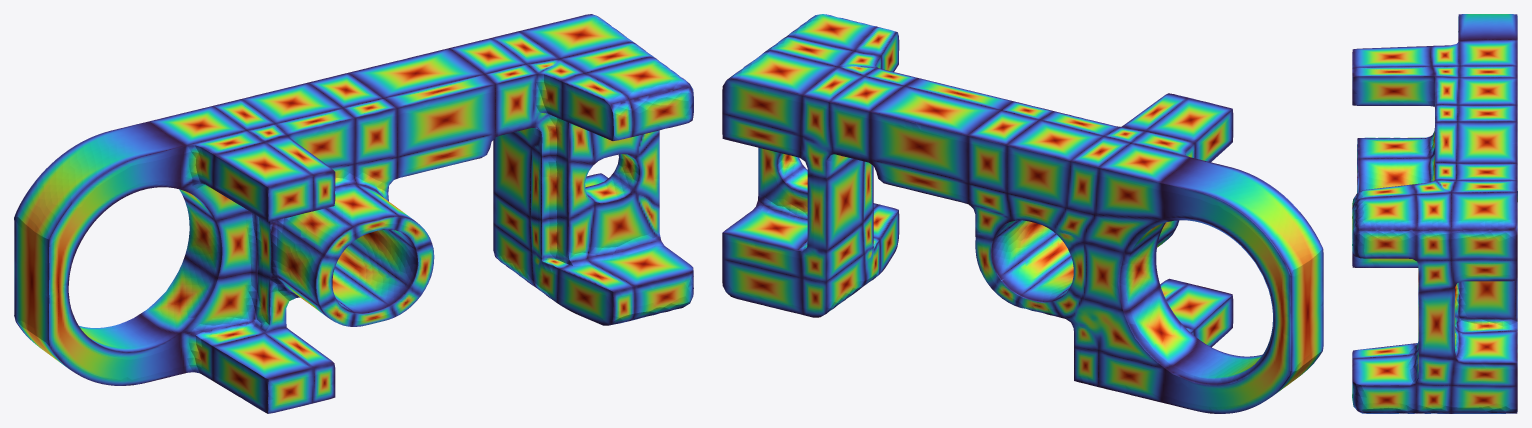
The model's file is gen1.glb.
The picture shows the model from 3 angles, left to right: view 1: azimuth 30°, elevation 25°; view 2: azimuth 150°, elevation 25°; view 3: azimuth 270°, elevation 25°; orthographic projection. The views are drawn at different scales.
Visible parts, largest first — view 1: Node; view 2: Node; view 3: Node.
Part boxes in pixels (<box>): Node: <box>14,14,693,413</box>; Node: <box>722,14,1323,413</box>; Node: <box>1352,14,1517,413</box>.
Bounding box in the file's own units: 34.6 × 12.8 × 10.
Materials: 1 (1 with a texture image).
